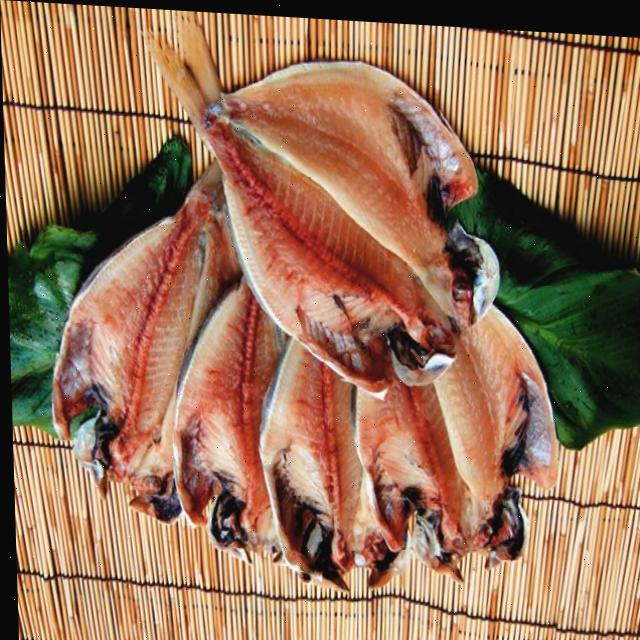熟制海鲜: (41, 5, 568, 597)
